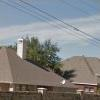Chimney: (12, 31, 36, 70)
